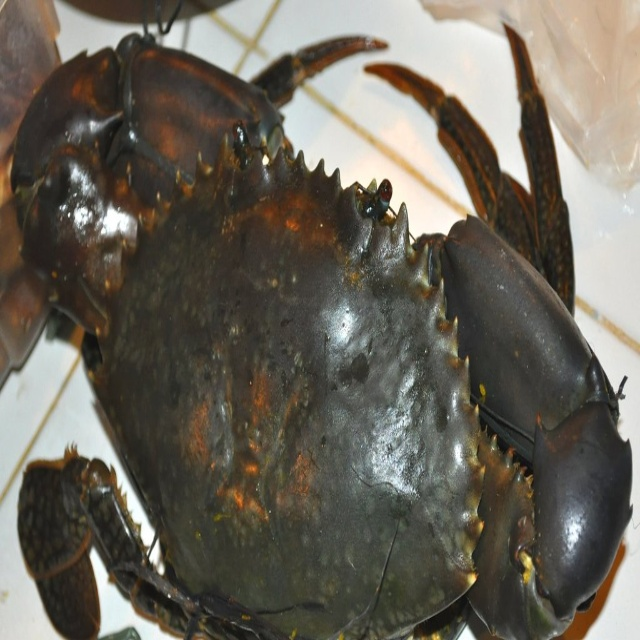Crab: (10, 21, 634, 640)
